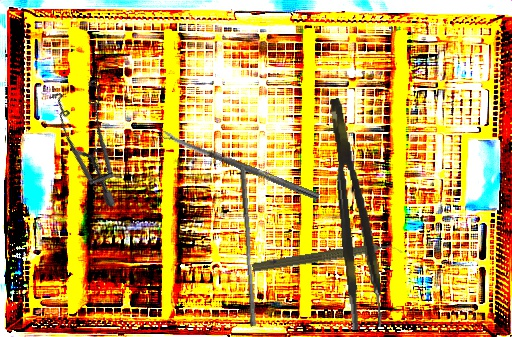Handpiece: (251, 237, 404, 278)
Pusher: (233, 165, 262, 327)
Speculum: (23, 64, 169, 210)
Surgical Spoon: (160, 129, 321, 201)
Tissue Forceps: (326, 95, 386, 331)
